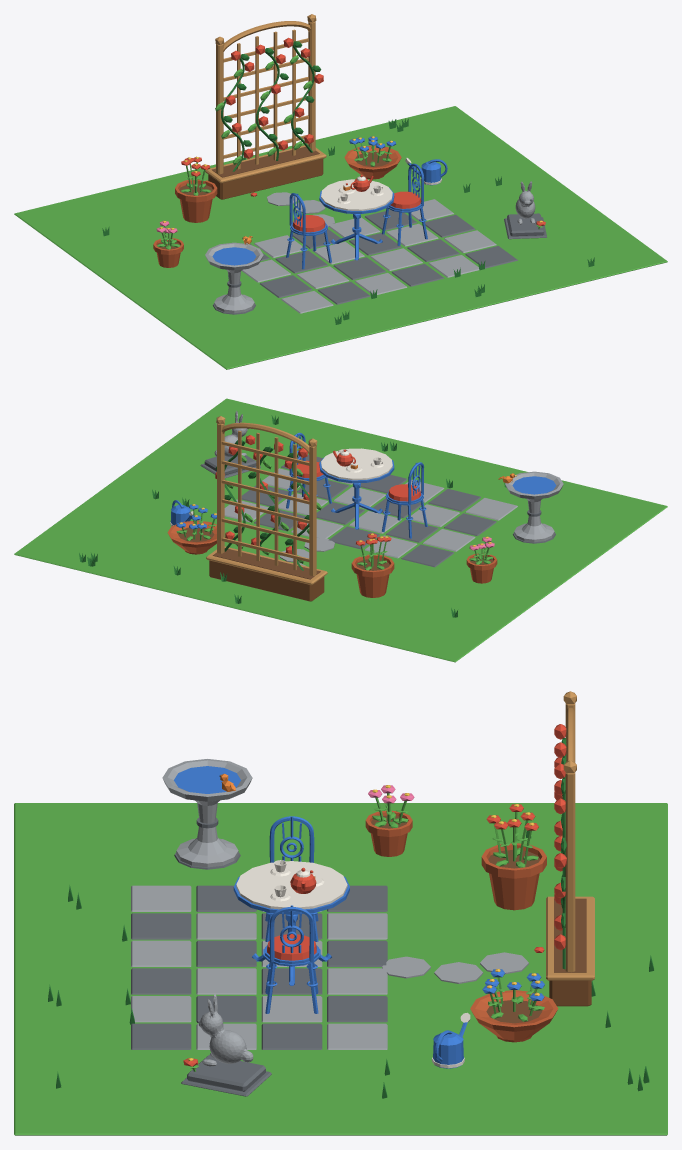
The model's file is cozy-garden-patio-set.glb.
3 views of the same model, one above another, from view 1: azimuth 30°, elevation 25°; view 2: azimuth 150°, elevation 25°; view 3: azimuth 270°, elevation 25° (orthographic). The views are drawn at different scales.
Visible parts, largest first — view 1: Garden_Patio, Rose_Trellis, Bistro_Table, Stone_Birdbath, Planter_Tall, Planter_Bowl, Stone_Rabbit, Bistro_Chair_B, Bistro_Chair_A, Planter_Small, Watering_Can; view 2: Garden_Patio, Rose_Trellis, Bistro_Table, Stone_Birdbath, Planter_Tall, Planter_Bowl, Bistro_Chair_A, Planter_Small, Stone_Rabbit, Bistro_Chair_B, Watering_Can; view 3: Garden_Patio, Rose_Trellis, Stone_Birdbath, Bistro_Table, Planter_Tall, Stone_Rabbit, Planter_Bowl, Bistro_Chair_B, Planter_Small, Bistro_Chair_A, Watering_Can.
Boxes of the visible parts, box(x1,y1,x2,y2) form: Garden_Patio: box(14, 106, 667, 369); Rose_Trellis: box(205, 14, 326, 199); Bistro_Table: box(319, 176, 394, 260); Stone_Birdbath: box(205, 236, 263, 314); Planter_Tall: box(175, 156, 217, 222); Planter_Bowl: box(344, 136, 401, 179); Stone_Rabbit: box(504, 181, 546, 239); Bistro_Chair_B: box(382, 163, 427, 245); Bistro_Chair_A: box(286, 193, 331, 269); Planter_Small: box(153, 220, 183, 267); Watering_Can: box(405, 158, 447, 185); Garden_Patio: box(14, 398, 667, 662); Rose_Trellis: box(206, 416, 327, 601); Bistro_Table: box(319, 448, 394, 529); Stone_Birdbath: box(498, 471, 563, 543); Planter_Tall: box(351, 533, 394, 597); Planter_Bowl: box(167, 504, 216, 554); Bistro_Chair_A: box(382, 462, 427, 538); Planter_Small: box(466, 536, 497, 583); Stone_Rabbit: box(200, 410, 260, 478); Bistro_Chair_B: box(286, 432, 331, 508); Watering_Can: box(170, 500, 193, 526); Garden_Patio: box(14, 803, 667, 1135); Rose_Trellis: box(534, 691, 594, 1006); Stone_Birdbath: box(162, 759, 252, 869); Bistro_Table: box(233, 860, 349, 985); Planter_Tall: box(481, 804, 546, 910); Stone_Rabbit: box(181, 994, 271, 1096); Planter_Bowl: box(470, 969, 558, 1042); Bistro_Chair_B: box(263, 905, 320, 1013); Planter_Small: box(365, 785, 414, 856); Bistro_Chair_A: box(265, 816, 318, 941); Watering_Can: box(432, 1012, 470, 1068).
Bounding box in the file's own units: 24 × 8.26 × 20.
